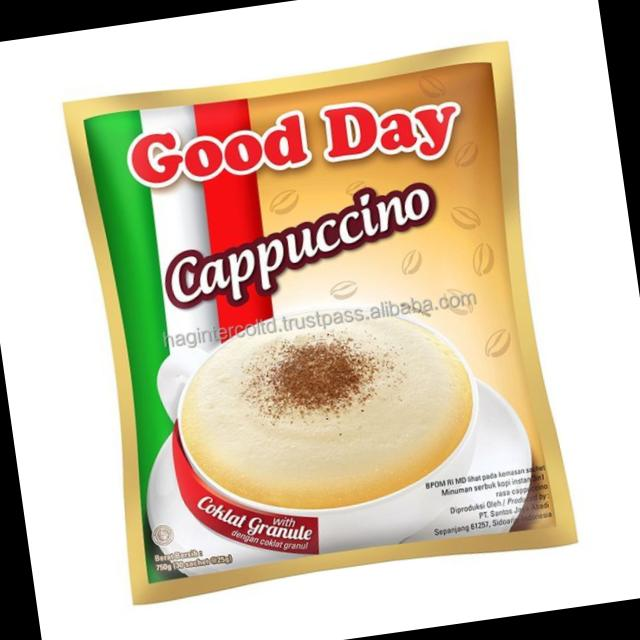KemasanPlastik: (49, 29, 588, 616)
